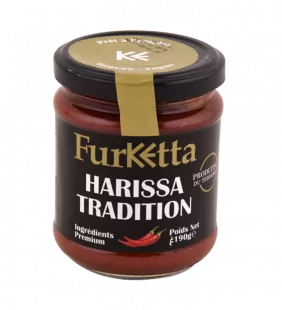FURKITTA: (44, 20, 236, 290)
